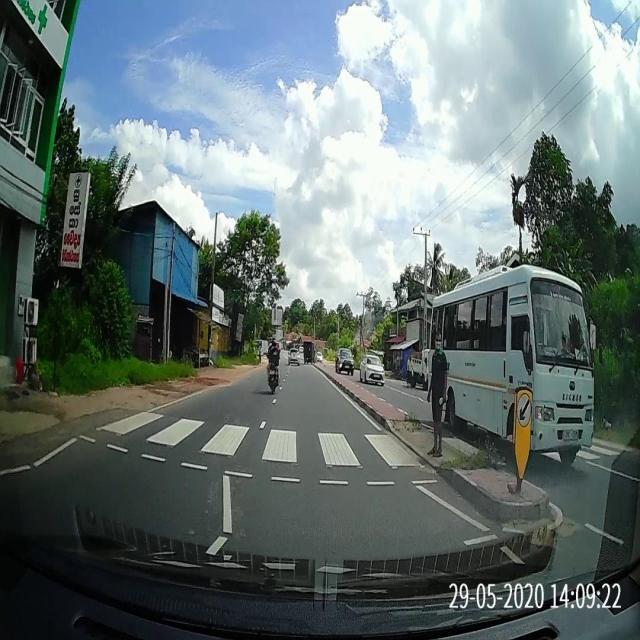Crosswalk: (70, 404, 451, 492)
